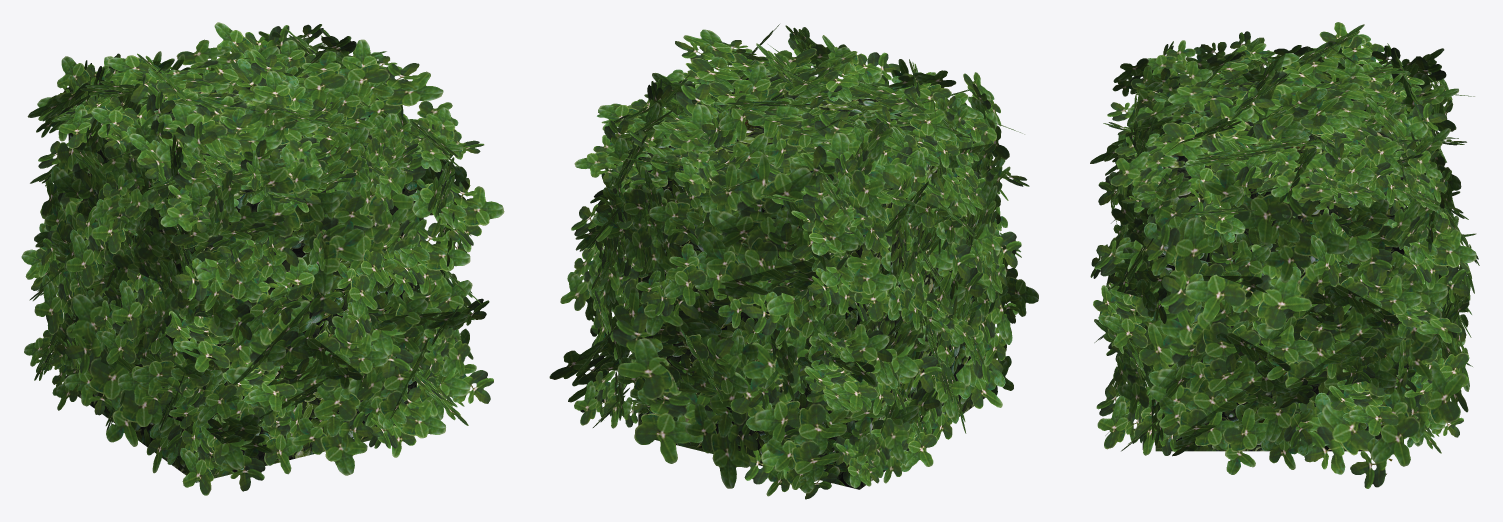
The model's file is hedge_01_corner.FBX.
The picture shows the model from 3 angles, left to right: view 1: azimuth 30°, elevation 25°; view 2: azimuth 150°, elevation 25°; view 3: azimuth 270°, elevation 25°; orthographic projection. The views are drawn at different scales.
Visible parts, largest first — view 1: hedge_01_corner; view 2: hedge_01_corner; view 3: hedge_01_corner.
Part boxes in pixels (x1=…): hedge_01_corner: x1=21, y1=22, x2=504, y2=495; hedge_01_corner: x1=549, y1=24, x2=1038, y2=499; hedge_01_corner: x1=1090, y1=22, x2=1479, y2=488.
Size of the model in its own units: 83.68 by 81.51 by 83.47.
